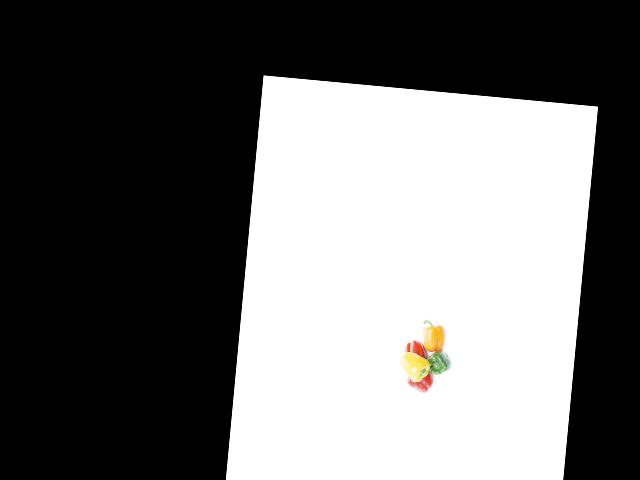bell_pepper: (419, 348, 455, 381)
